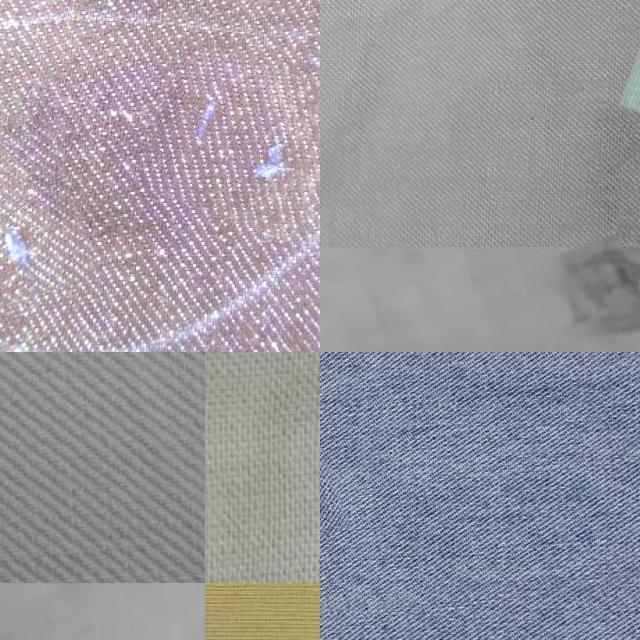Hole: (527, 239, 640, 352)
Thread_other: (141, 46, 320, 230), (0, 119, 89, 314)
seam: (320, 451, 345, 547)
